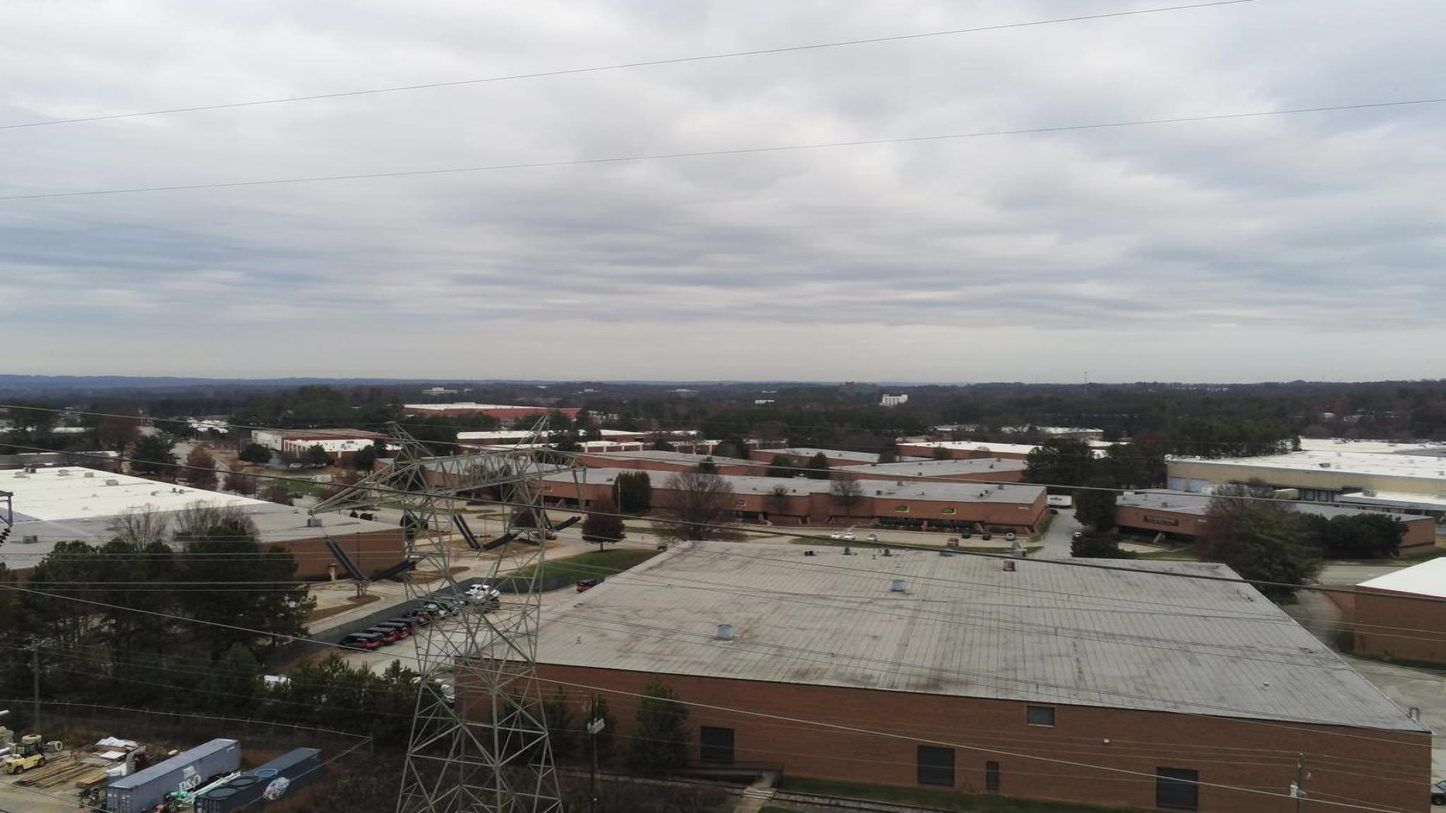tower: (300, 410, 605, 813)
